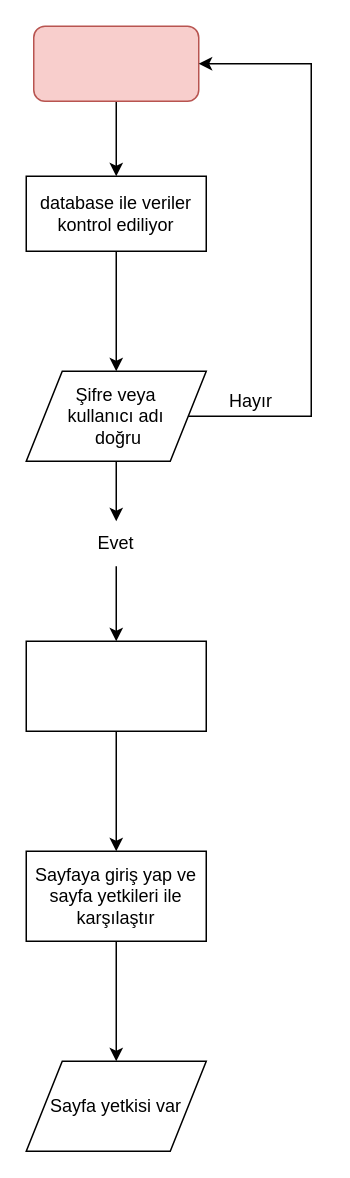
The diagram is 350 pixels wide and 1178 high, and some of its shapes have lost their labels. The centre of each missing label's shape, as x and y in pixels:
"Kullanıcı adı ve şifre giriyor" belongs at point 115,63.
"Yetkileri databaseden al" belongs at point 115,685.
